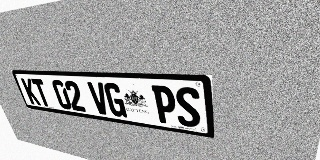0: (51, 80, 73, 110)
2: (63, 80, 86, 112)
G: (103, 83, 127, 118)
K: (21, 78, 41, 105)
P: (151, 85, 178, 125)
S: (174, 86, 201, 128)
T: (31, 79, 52, 107)
V: (87, 82, 111, 115)
